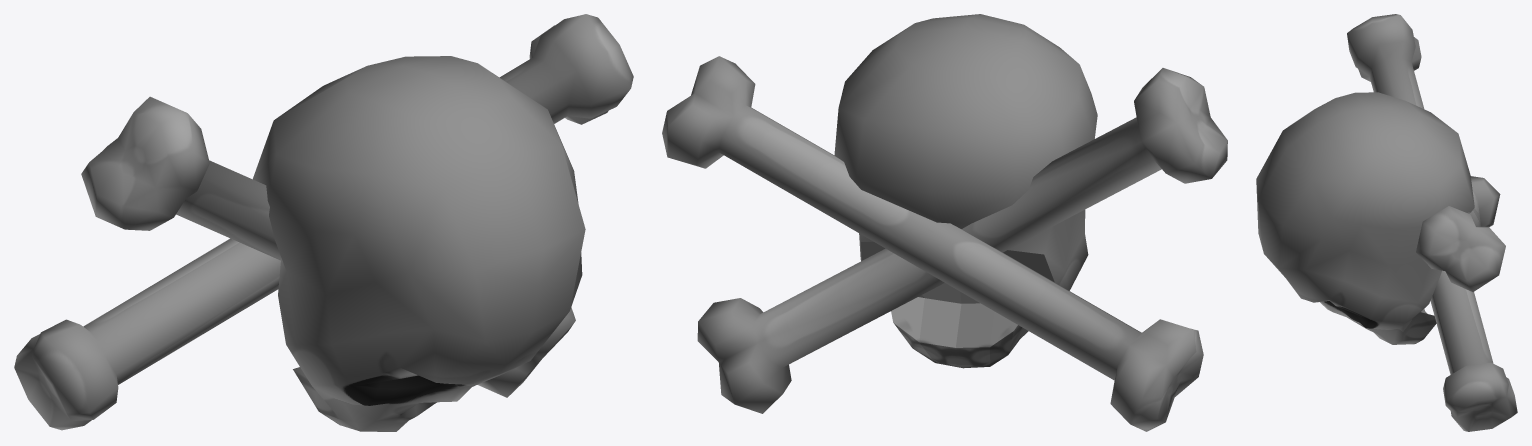
File: Skul.fbx
The picture shows the model from 3 angles, left to right: view 1: azimuth 30°, elevation 25°; view 2: azimuth 150°, elevation 25°; view 3: azimuth 270°, elevation 25°; orthographic projection. The views are drawn at different scales.
Parts seen in each view (by area): view 1: skul; view 2: skul; view 3: skul.
Part boxes in pixels (x1=…): skul: x1=14, y1=14, x2=633, y2=431; skul: x1=662, y1=14, x2=1227, y2=431; skul: x1=1256, y1=14, x2=1517, y2=431.
Bounding box in the file's own units: 35.5 × 24.77 × 20.52.
